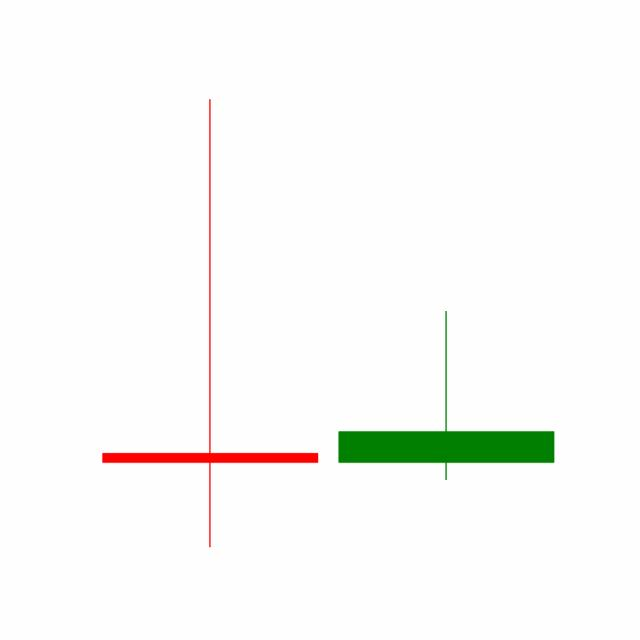Gravestone Doji: (327, 308, 565, 481)
